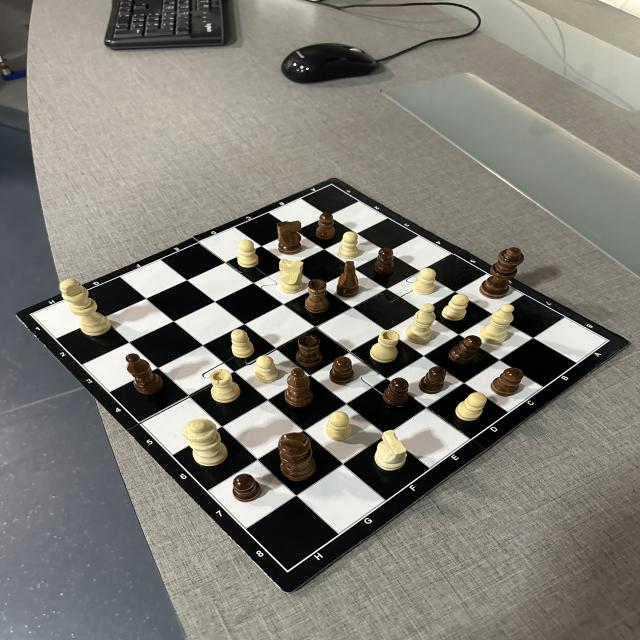Black-Bishop: (125, 353, 163, 396), (285, 368, 313, 408)
Black-King: (279, 432, 315, 482)
Black-Knight: (276, 221, 303, 254), (337, 261, 359, 297)
Black-Pawn: (447, 335, 482, 363), (491, 368, 523, 396), (232, 474, 261, 502), (420, 366, 446, 394), (328, 356, 354, 384), (383, 378, 409, 405), (374, 248, 395, 275), (315, 212, 335, 240)
Black-Queen: (479, 248, 524, 298)
Black-Rook: (294, 335, 322, 367), (304, 280, 330, 313)
White-Bishop: (480, 304, 515, 344), (405, 303, 436, 344)
White-King: (58, 278, 113, 336)
White-Knight: (375, 430, 408, 471), (278, 259, 304, 293)
White-Pawn: (455, 393, 487, 421), (326, 410, 352, 441), (442, 294, 469, 321), (412, 268, 437, 295), (254, 355, 278, 383), (231, 329, 254, 358), (238, 240, 258, 268), (338, 231, 358, 258)
White-Queen: (182, 418, 228, 466)
White-Rook: (210, 369, 241, 403), (370, 330, 400, 362)
